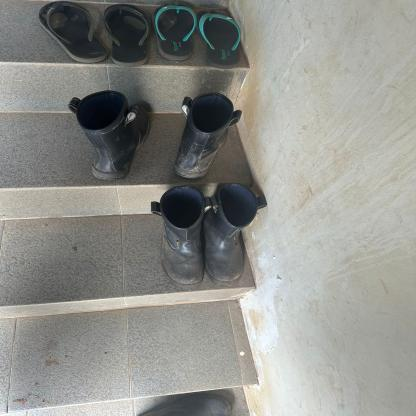bota: (69, 85, 162, 180), (173, 78, 240, 181), (140, 188, 208, 287), (198, 184, 263, 278)
